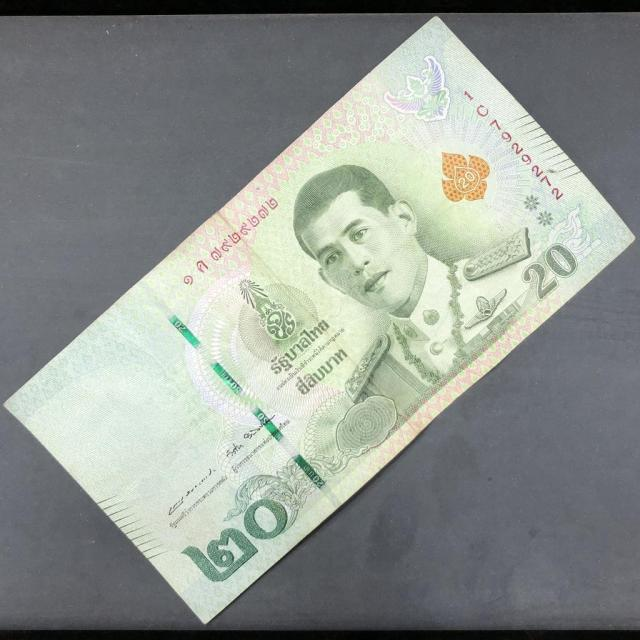THAI20: (6, 18, 634, 622)
